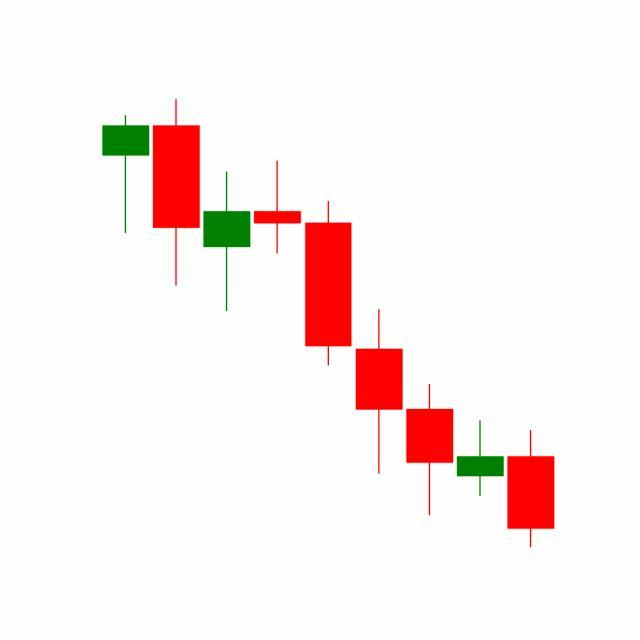Hikkake Pattern: (302, 197, 555, 548)
